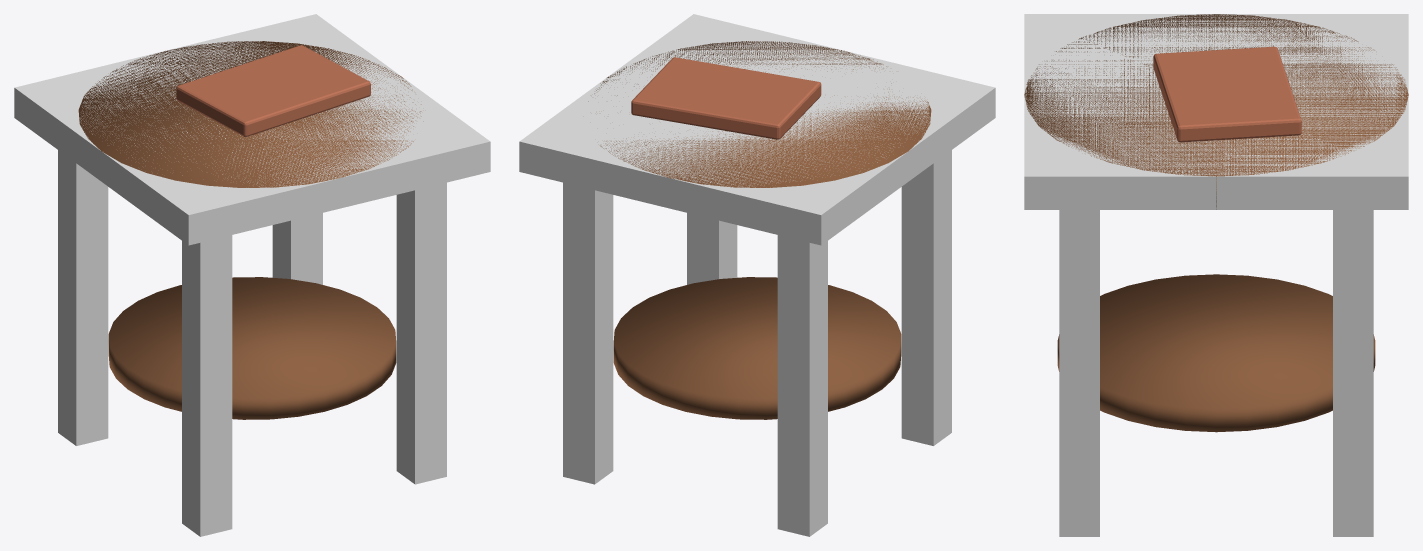
File: side_table.glb
3 renders of one model, left to right at view 1: azimuth 30°, elevation 25°; view 2: azimuth 150°, elevation 25°; view 3: azimuth 270°, elevation 25°, orthographic. The views are drawn at different scales.
Visible parts, largest first — view 1: family_side_table_COL, family_side_table_001_top, family_side_table_002_lower_shelf, family_side_table_007_reading_book; view 2: family_side_table_COL, family_side_table_002_lower_shelf, family_side_table_001_top, family_side_table_007_reading_book; view 3: family_side_table_COL, family_side_table_002_lower_shelf, family_side_table_001_top, family_side_table_007_reading_book.
Part boxes in pixels (bbox=[...]): family_side_table_COL: bbox=[14, 14, 490, 536]; family_side_table_001_top: bbox=[78, 41, 423, 187]; family_side_table_002_lower_shelf: bbox=[108, 277, 396, 419]; family_side_table_007_reading_book: bbox=[176, 45, 370, 136]; family_side_table_COL: bbox=[519, 14, 995, 536]; family_side_table_002_lower_shelf: bbox=[613, 277, 901, 419]; family_side_table_001_top: bbox=[588, 41, 931, 187]; family_side_table_007_reading_book: bbox=[631, 57, 821, 139]; family_side_table_COL: bbox=[1024, 14, 1408, 536]; family_side_table_002_lower_shelf: bbox=[1057, 274, 1375, 432]; family_side_table_001_top: bbox=[1024, 14, 1408, 209]; family_side_table_007_reading_book: bbox=[1153, 46, 1301, 142].
Size of the model in its own units: 0.52 by 0.5945 by 0.52.
